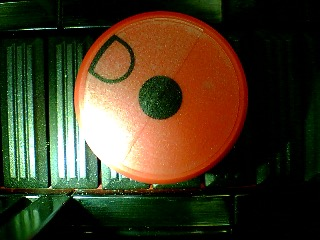BOHOMIPO1: (73, 10, 249, 184)
